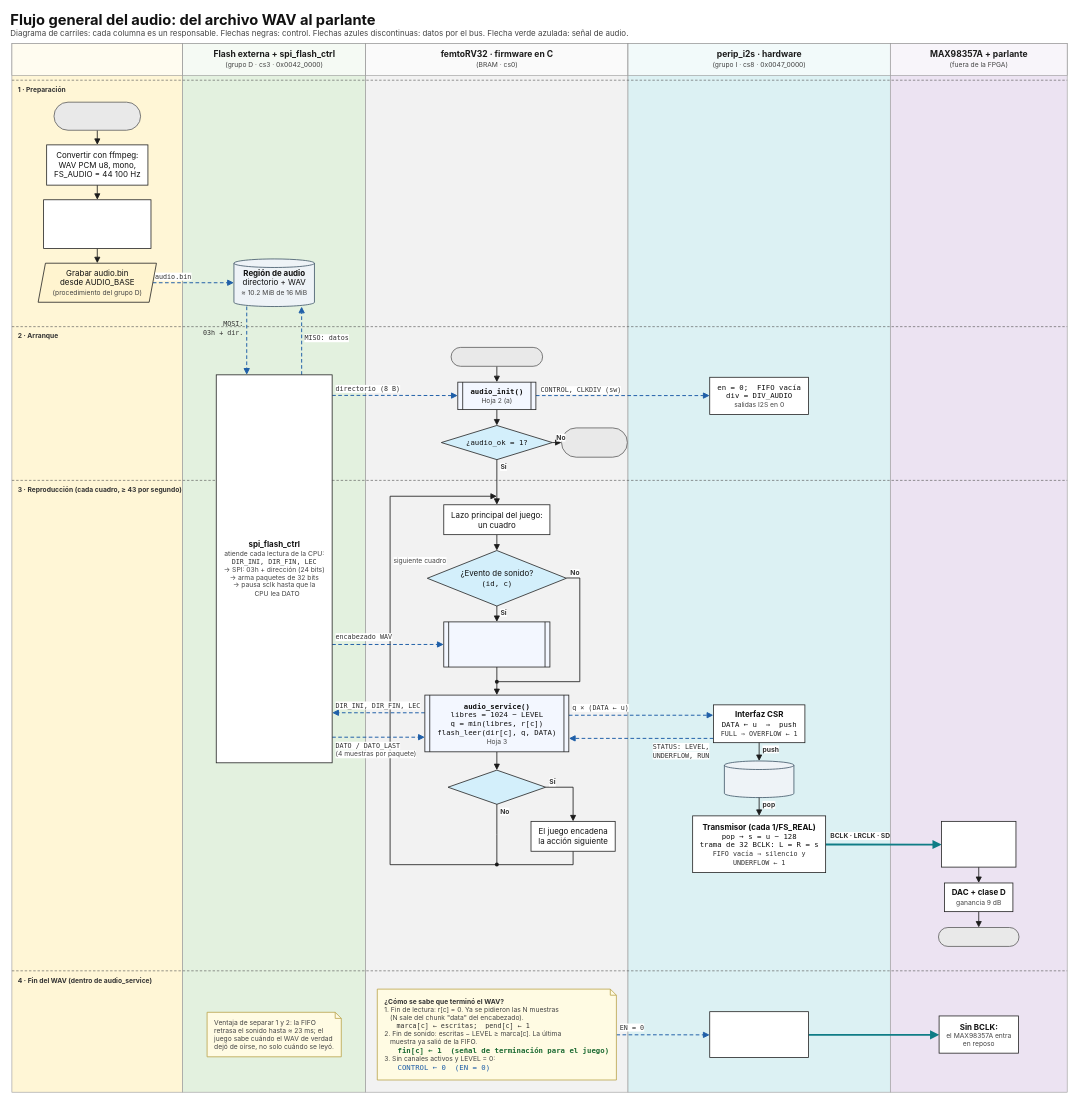
Some shapes in this 1078 by 1103 pixel diagram are drawn without their labels. The centre of each missing label's shape, as x and y in pixels:
audio_play(id, c) valida el WAV y calcula N = muestras hasta su fin Hoja 2 (b): (496,644)
en = 0 la trama en curso termina; run ← 0: BCLK y LRCLK se detienen juntos: (759,1034)
Encendido / reset: (496,356)
FIFO 1024 × 8 ≈ 23 ms de audio: (759,779)
Generar audio.bin: "KAUD" · NCLIPS · (OFF, TAM) por clip · archivos WAV: (97,224)
Juego sin sonido: (594,442)
MAX98357A lee SD en ↑BCLK LRCLK elige L / R salida (L + R)/2 = s: (978,844)
Parlante 4–8 Ω: (978,937)
PC · preparación (fuera de línea): (97,59)
Sonidos fuente (.wav / .mp3): (97,116)
¿fin[c] = 1?: (496,786)
